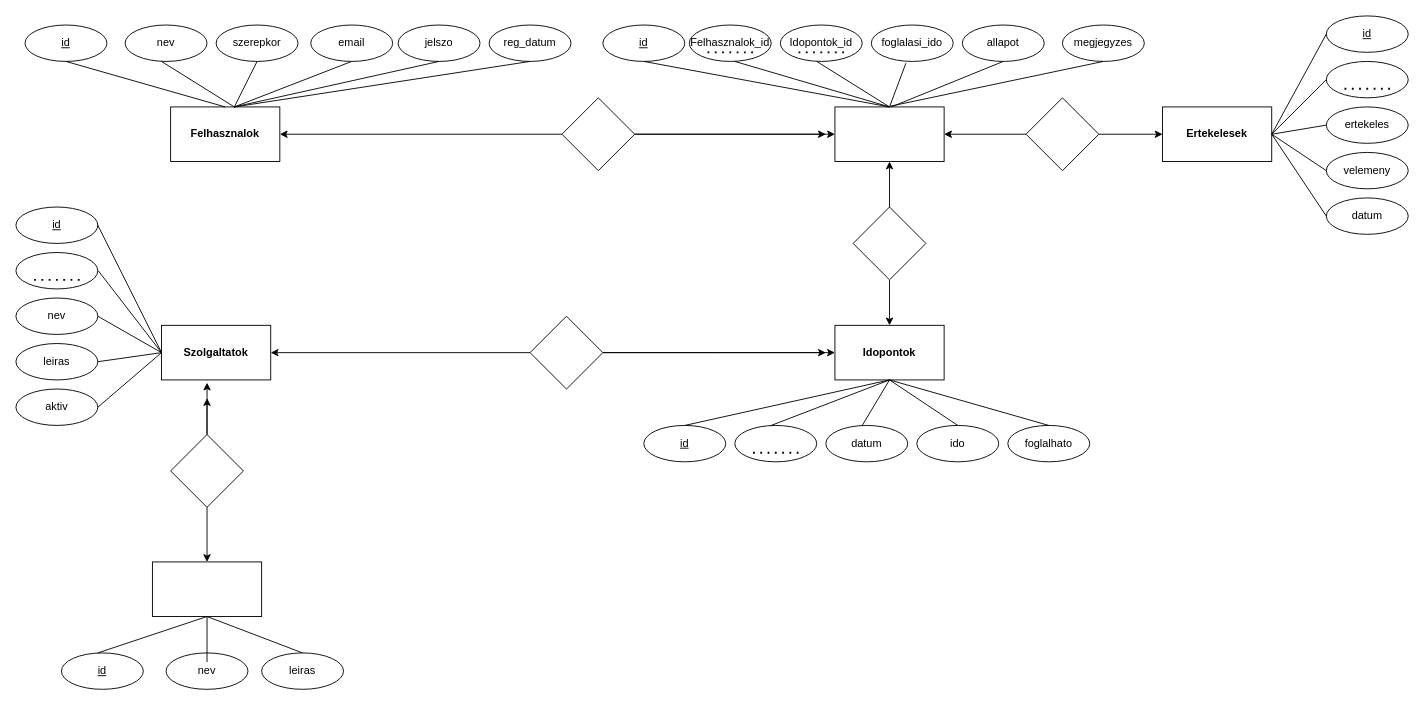
Image size: 1424x705. Some labels were removed from this diagram. Here are the shapes that lost their labels. From the top down, the centre of each, then its label:
At pixel 1366 79: "Foglalasok_id".
At pixel 598 134: "F-F".
At pixel 889 134: "Foglalasok".
At pixel 1062 134: "F-E".
At pixel 889 243: "I-F".
At pixel 56 270: "Szol._tipusok id".
At pixel 566 352: "SZ-I".
At pixel 775 443: "Szolgaltatok_id".
At pixel 206 470: "SZ_T- SZ".
At pixel 207 589: "Szolgaltatas_tipusok".
